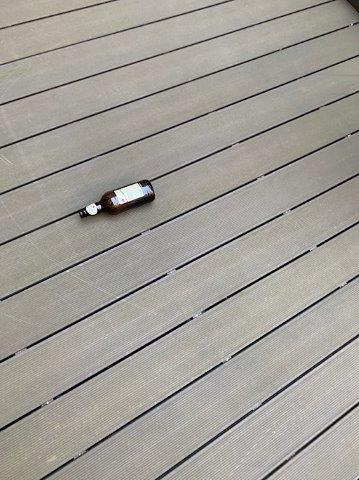botolkaca: (79, 178, 156, 220)
